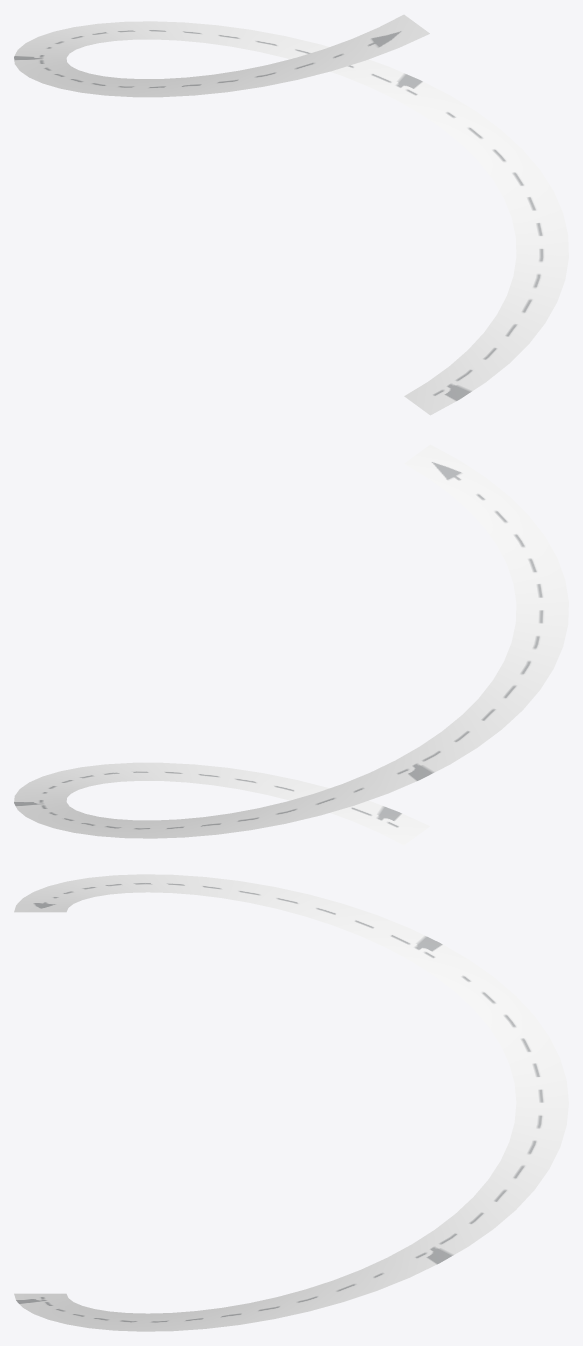
The model's file is Holo_Arrow_02.FBX.
The picture shows the model from 3 angles, top to bottom: view 1: azimuth 30°, elevation 25°; view 2: azimuth 150°, elevation 25°; view 3: azimuth 270°, elevation 25°; orthographic projection.
Visible parts, largest first — view 1: Holo_Arrow_02; view 2: Holo_Arrow_02; view 3: Holo_Arrow_02.
Boxes of the visible parts, bbox=[...] form: Holo_Arrow_02: bbox=[14, 14, 568, 415]; Holo_Arrow_02: bbox=[14, 444, 568, 845]; Holo_Arrow_02: bbox=[14, 874, 568, 1331].
Bounding box in the file's own units: 1.64 × 1.24 × 1.64.
